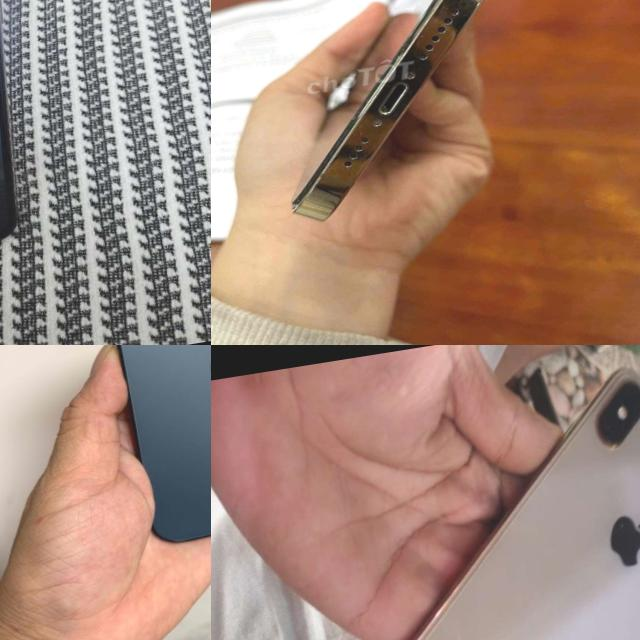gen_12_13: (250, 0, 551, 231), (89, 345, 211, 550)
gen_x_xs: (328, 346, 640, 640), (0, 0, 62, 293)
